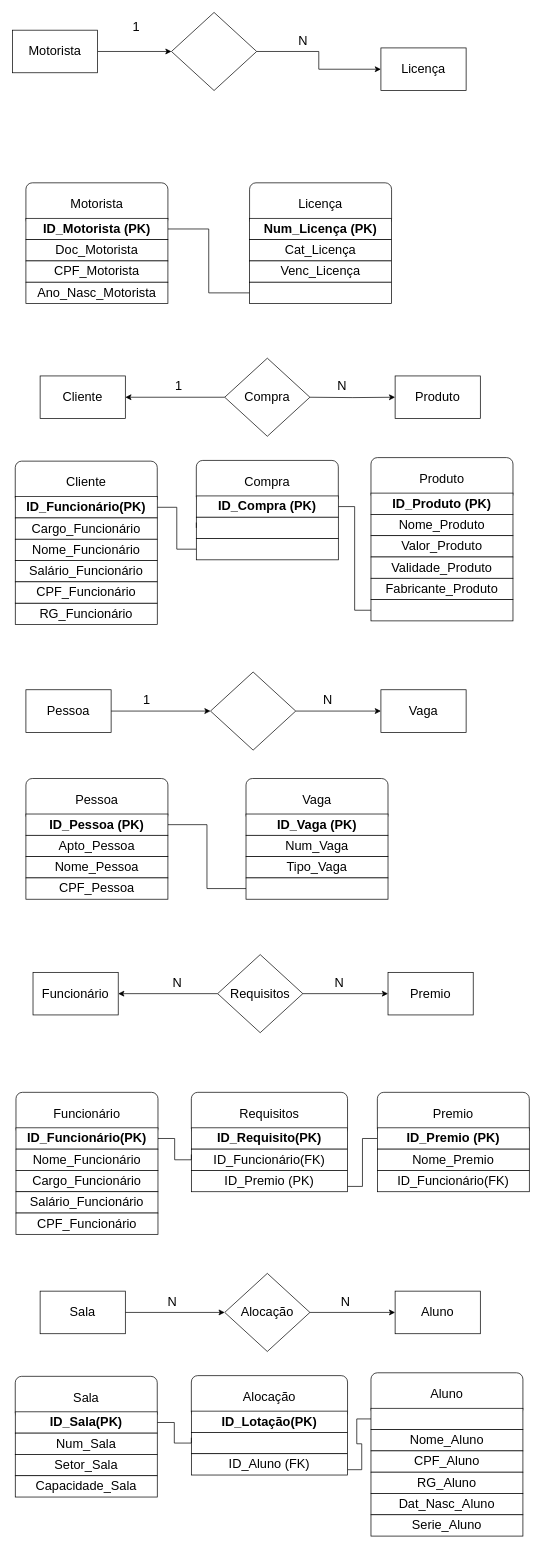
Image size: 542x1549. Some labels were removed from this diagram. Here are the shapes that lost their labels. From the top down, the box of each, then its label:
(171, 12, 257, 91): Renova
(249, 282, 392, 304): ID_Motorista(FK)
(196, 517, 338, 539): Data_Compra
(196, 538, 338, 560): ID_Cliente(FK)
(370, 599, 513, 621): ID_Compra(FK)
(210, 671, 296, 750): Aluguel
(245, 877, 388, 899): ID_Pessoa(FK)
(370, 1408, 523, 1430): ID_Aluno (PK)
(191, 1432, 348, 1454): ID_Sala(FK)
